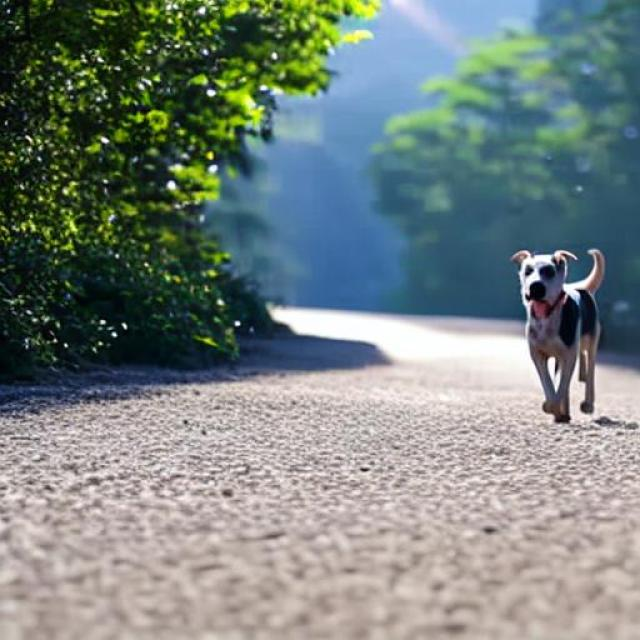Dog: (508, 249, 606, 423)
